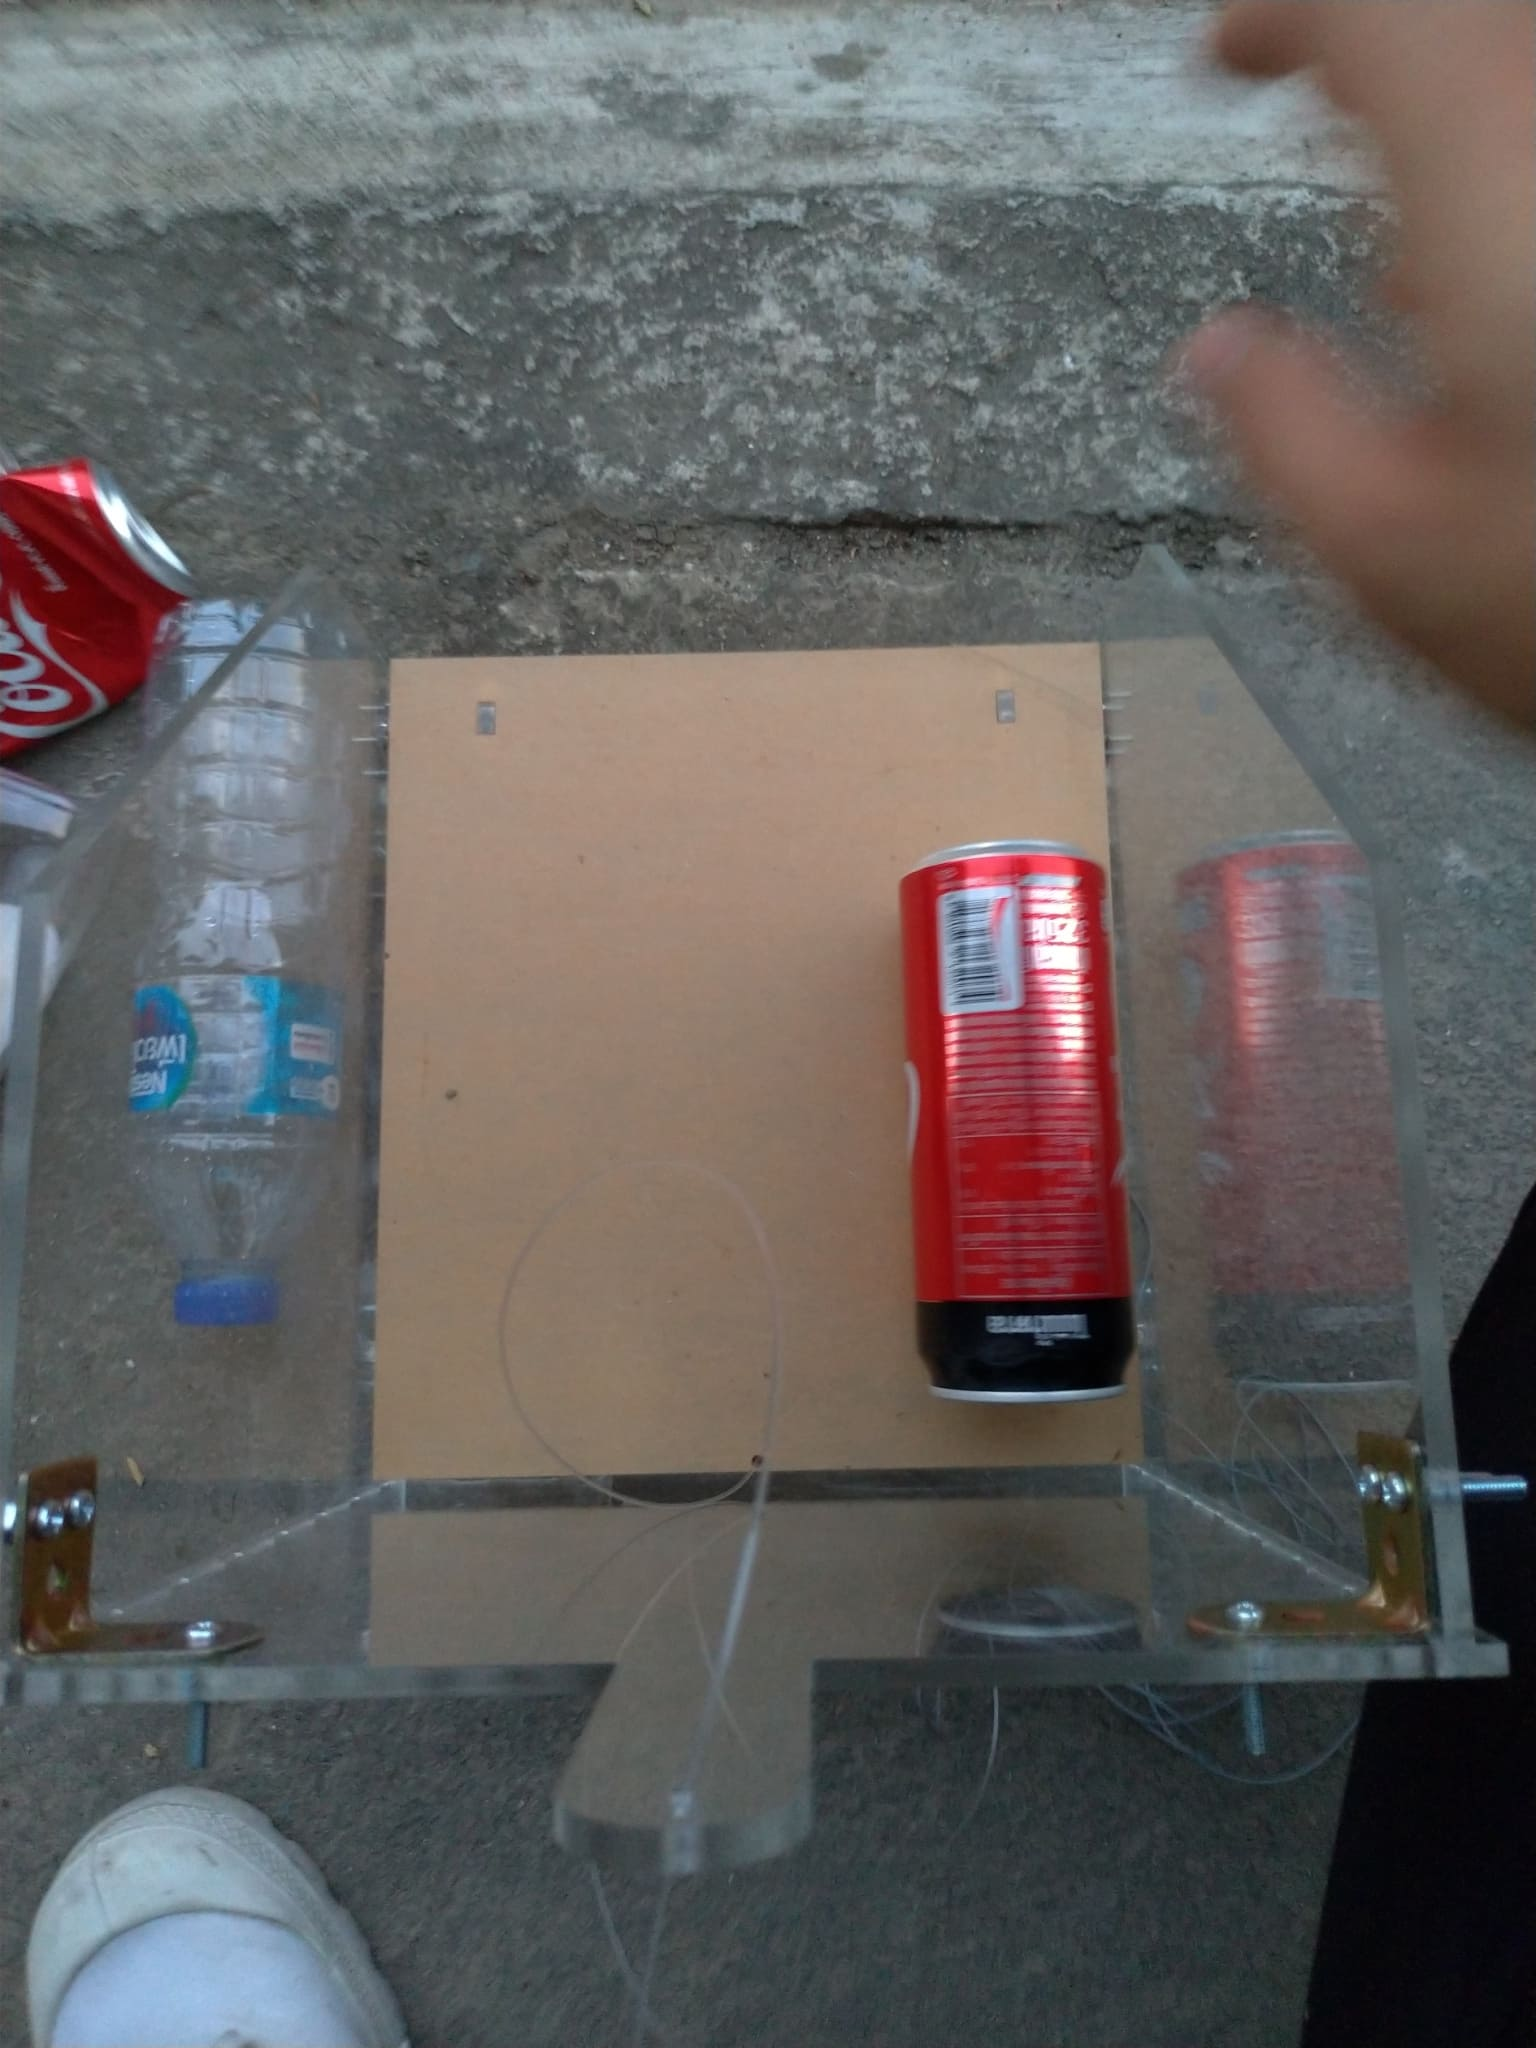AlCan: (894, 835, 1141, 1398), (3, 464, 197, 769)
PlasticBottle: (123, 601, 379, 1330)
